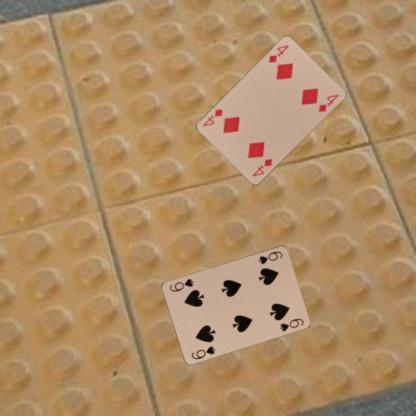4d: (250, 156, 273, 178), (266, 43, 290, 64)
6s: (189, 343, 217, 361), (256, 249, 284, 266)
